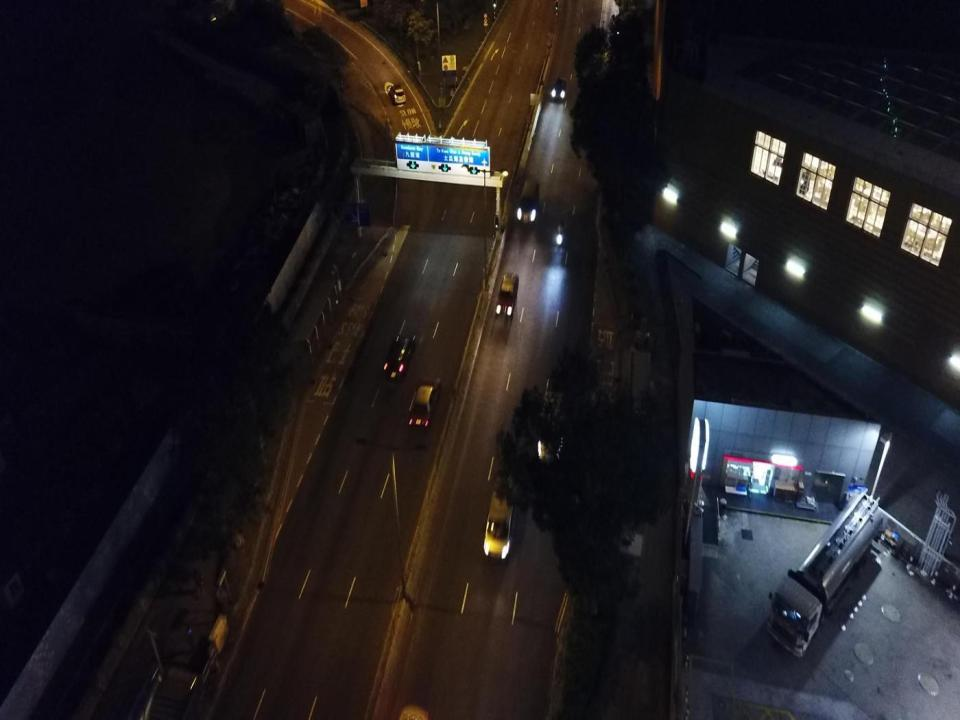car: (482, 475, 516, 563), (407, 377, 441, 435), (384, 332, 416, 376), (496, 272, 519, 314), (551, 77, 567, 101), (388, 84, 406, 104)
truck: (767, 486, 885, 663)
van: (518, 178, 540, 226)
